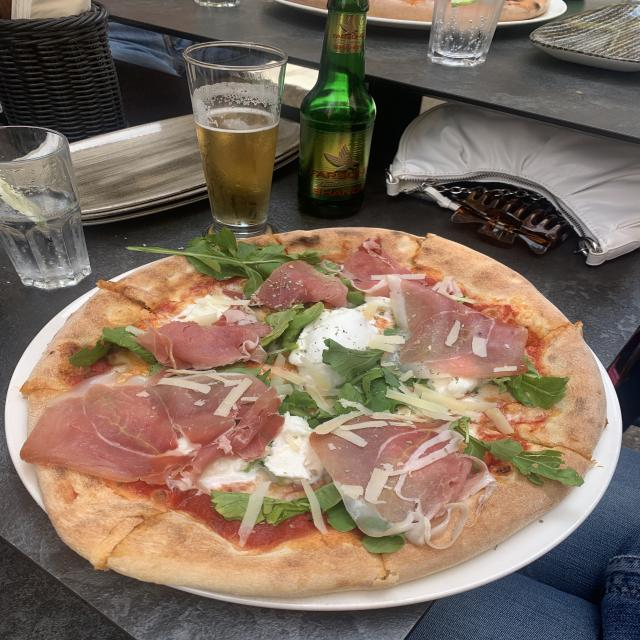Cheese: (289, 310, 379, 365), (265, 412, 319, 480), (184, 294, 228, 325)
Ham: (32, 376, 277, 494), (340, 241, 528, 378), (313, 418, 497, 547), (138, 320, 274, 370), (251, 262, 347, 310)
Pizza: (24, 230, 602, 601)
Rucola: (452, 416, 573, 484), (195, 243, 338, 298), (215, 485, 355, 528), (323, 341, 404, 408), (68, 327, 163, 372), (491, 362, 568, 408), (264, 302, 321, 359), (358, 535, 399, 553)
